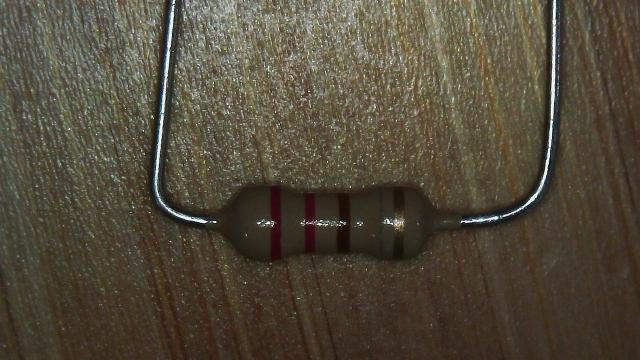brown: (392, 187, 406, 260), (336, 192, 350, 254)
red: (270, 186, 282, 262), (303, 192, 315, 255)
resistor: (208, 165, 464, 278)
